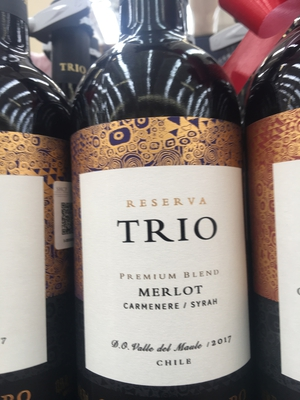trio merlot: (69, 8, 247, 400)
